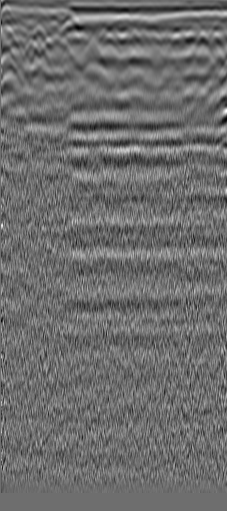가스: (214, 125, 227, 151)
오수: (29, 22, 49, 42)
우수: (160, 29, 180, 49)
